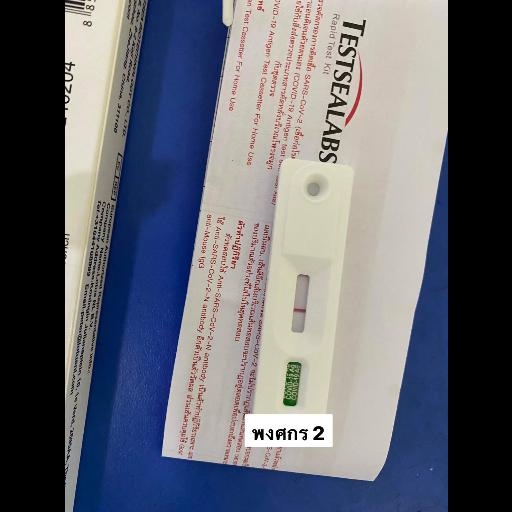Neg: (252, 158, 355, 424)
